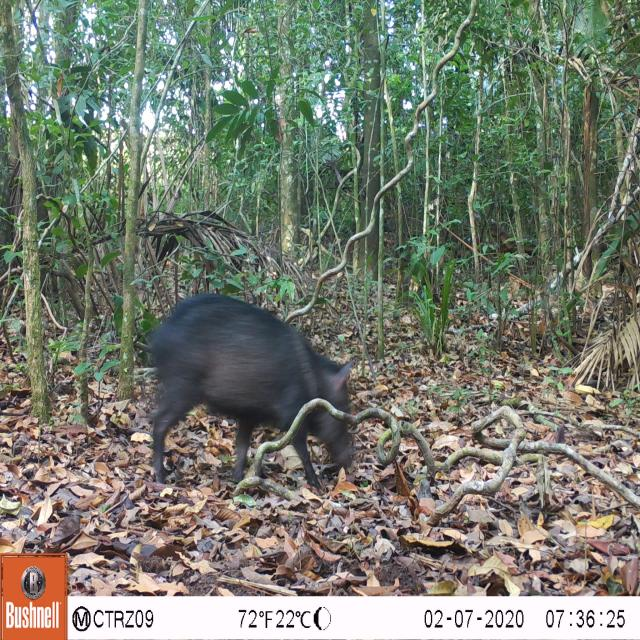Collared Peccary: (143, 284, 360, 500)
